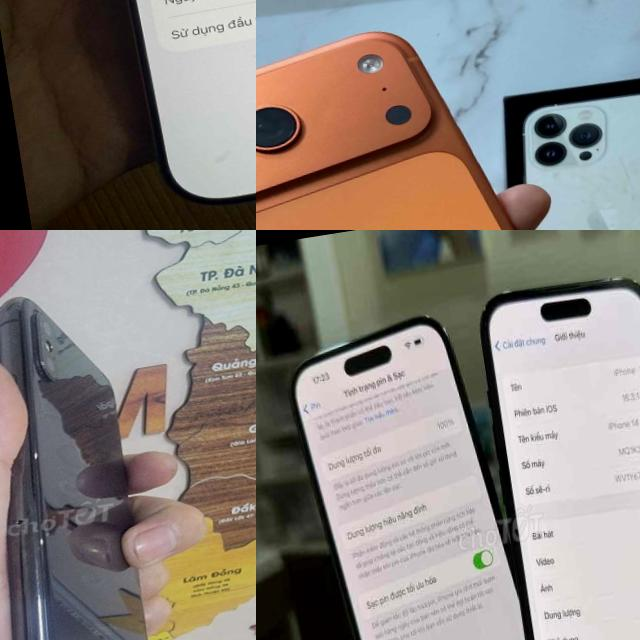gen_14: (464, 252, 640, 640)
gen_16: (130, 0, 256, 199)
gen_17: (256, 2, 640, 230)
gen_x_xs: (0, 298, 146, 640)
scratch: (17, 529, 69, 558), (26, 441, 44, 467)
